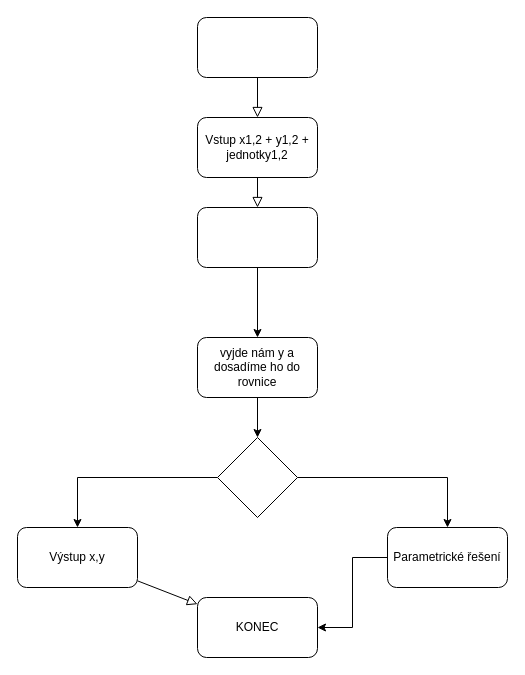
The diagram is 525 pixels wide and 675 high, and some of its shapes have lost their labels. The shapes that lost their labels are listed below. From the top down, each one's centre as x and y in pixels, then its label:
the point at 257,47: START
the point at 257,237: hodnoty rovnice 1 vynásobíme x2/x1a odečteme hodnoty rovnic 1 a 2
the point at 257,477: Vyjde int nebo boolean?
